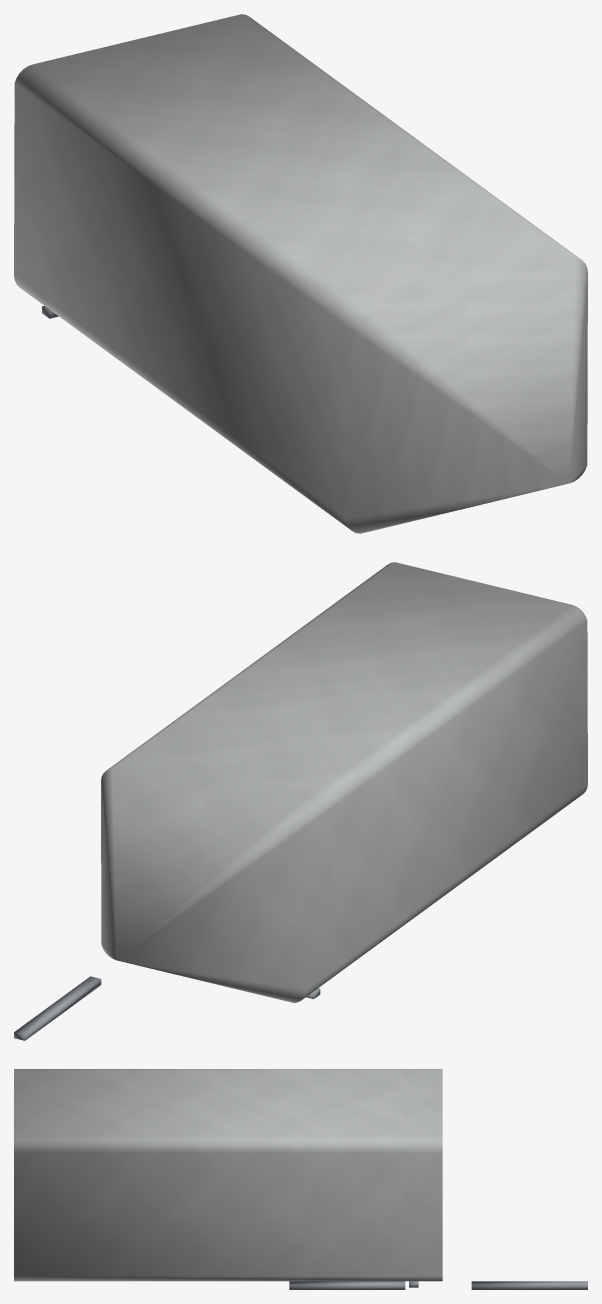
Rendered from FRIDGE_001.glb.
The picture shows the model from 3 angles, top to bottom: view 1: azimuth 30°, elevation 25°; view 2: azimuth 150°, elevation 25°; view 3: azimuth 270°, elevation 25°; orthographic projection. The views are drawn at different scales.
Parts seen in each view (by area): view 1: fridge_body_000; view 2: fridge_body_000, handle_bottom_003; view 3: fridge_body_000, handle_top_002, handle_bottom_003.
Boxes of the visible parts, bbox=[...] form: fridge_body_000: bbox=[14, 14, 587, 533]; fridge_body_000: bbox=[101, 562, 587, 1002]; handle_bottom_003: bbox=[14, 976, 101, 1040]; fridge_body_000: bbox=[14, 1069, 442, 1281]; handle_top_002: bbox=[289, 1281, 405, 1289]; handle_bottom_003: bbox=[471, 1281, 587, 1289].
Bounding box in the file's own units: 0.65 × 0.609 × 2.08.
2 materials, 2 textured.
